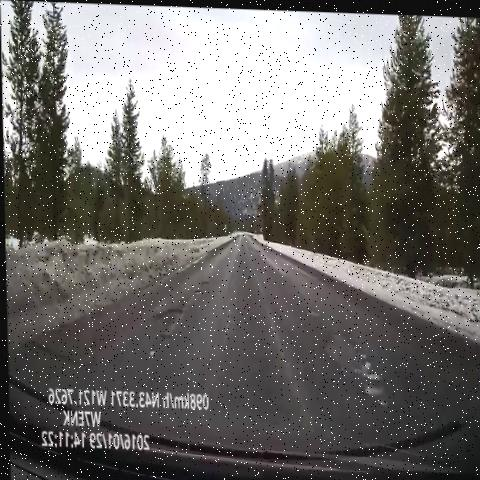pothole: (309, 313, 390, 418), (146, 297, 187, 344), (184, 272, 213, 300)
